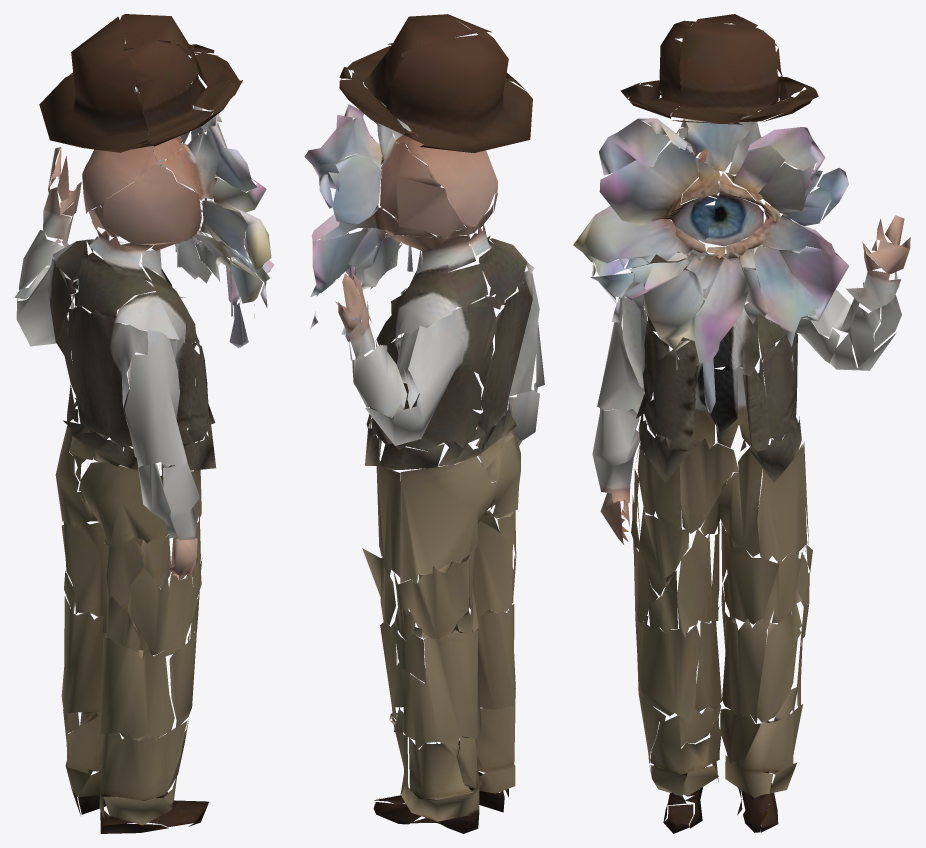
The model's file is cast_annieh.glb.
3 views of the same model, side by side, from view 1: azimuth 30°, elevation 25°; view 2: azimuth 150°, elevation 25°; view 3: azimuth 270°, elevation 25° (orthographic).
Visible parts, largest first — view 1: tripo_node_1126258b-1cb4-43a4-b5b0-aa4036e8409b; view 2: tripo_node_1126258b-1cb4-43a4-b5b0-aa4036e8409b; view 3: tripo_node_1126258b-1cb4-43a4-b5b0-aa4036e8409b.
Part boxes in pixels (x1=…): tripo_node_1126258b-1cb4-43a4-b5b0-aa4036e8409b: x1=14, y1=14, x2=274, y2=833; tripo_node_1126258b-1cb4-43a4-b5b0-aa4036e8409b: x1=304, y1=14, x2=544, y2=833; tripo_node_1126258b-1cb4-43a4-b5b0-aa4036e8409b: x1=573, y1=14, x2=910, y2=833.
Bounding box in the file's own units: 0.2576 × 1 × 0.387.
Materials: 1 (1 with a texture image).
